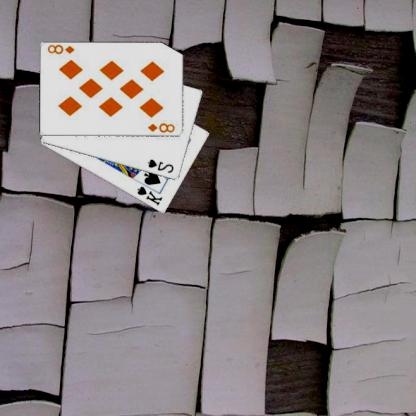2S: (147, 157, 177, 174)
8D: (146, 121, 178, 134), (47, 43, 78, 56)
KS: (136, 184, 166, 208)
